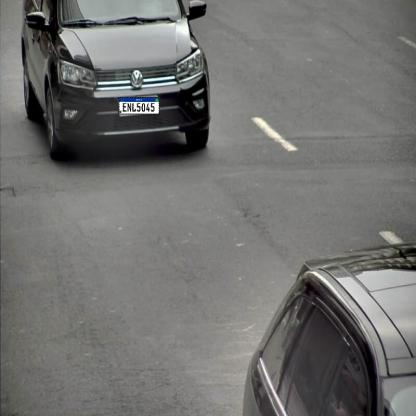PlacaM: (118, 97, 160, 114)
